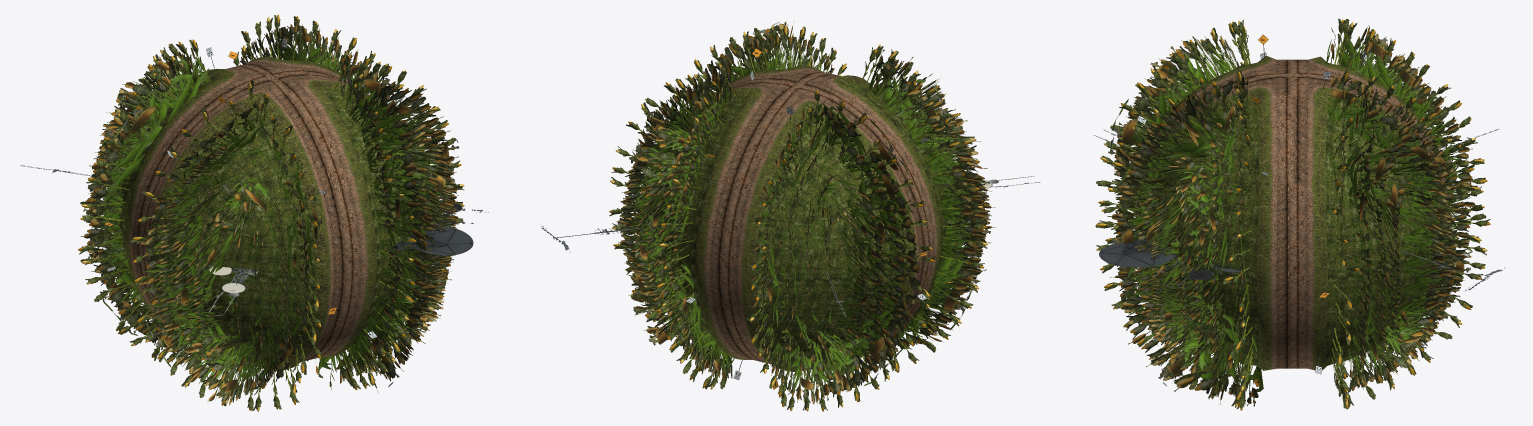
Rendered from ENV001_Country.fbx.
The picture shows the model from 3 angles, left to right: view 1: azimuth 30°, elevation 25°; view 2: azimuth 150°, elevation 25°; view 3: azimuth 270°, elevation 25°; orthographic projection. The views are drawn at different scales.
Parts seen in each view (by area): view 1: ENV001_Country; view 2: ENV001_Country; view 3: ENV001_Country.
Part boxes in pixels (box(x1,y1,x2,y2)): ENV001_Country: box(20, 14, 488, 411); ENV001_Country: box(541, 20, 1040, 411); ENV001_Country: box(1094, 18, 1505, 410).
Bounding box in the file's own units: 4630 × 4758 × 4183.
Materials: 1 (1 with a texture image).
